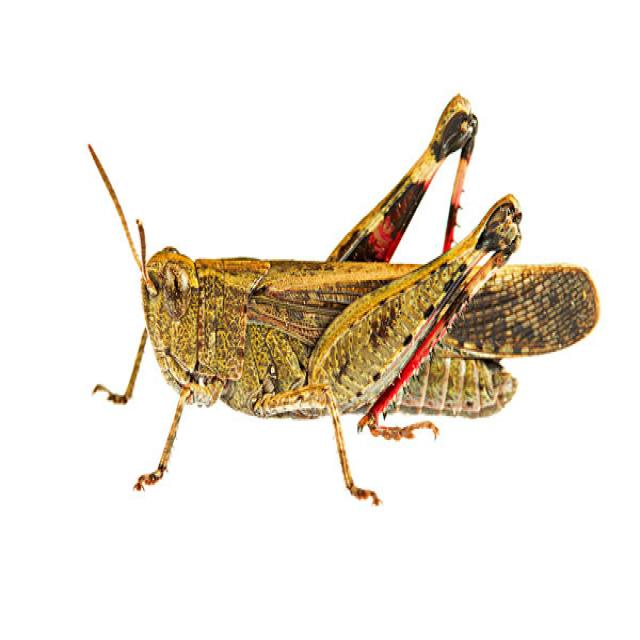ZhaMeng: (79, 89, 617, 471)
